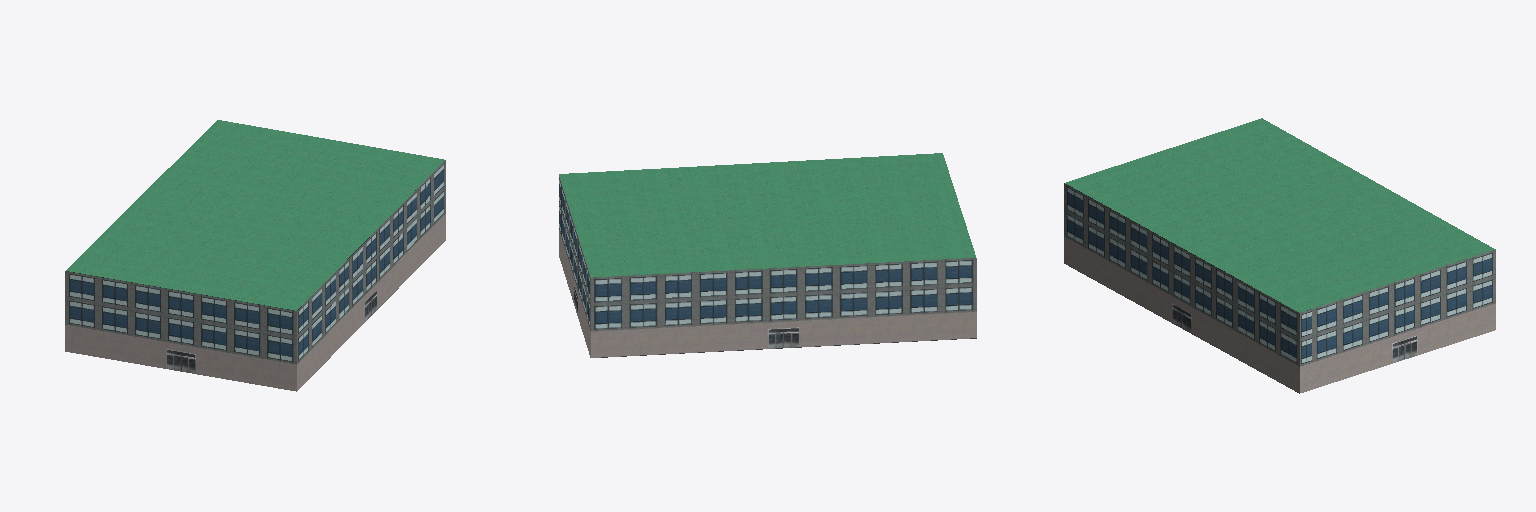
3 renders of one model, left to right at view 1: azimuth 30°, elevation 25°; view 2: azimuth 150°, elevation 25°; view 3: azimuth 270°, elevation 25°, orthographic.
Visible parts, largest first — view 1: BuildingMaster_[number redacted]_1, BuildingMaster_[number redacted]_0; view 2: BuildingMaster_[number redacted]_1, BuildingMaster_[number redacted]_0; view 3: BuildingMaster_[number redacted]_1, BuildingMaster_[number redacted]_0.
Boxes of the visible parts, x1=… form: BuildingMaster_[number redacted]_1: x1=66, y1=120, x2=444, y2=310; BuildingMaster_[number redacted]_0: x1=65, y1=160, x2=445, y2=391; BuildingMaster_[number redacted]_1: x1=559, y1=153, x2=975, y2=277; BuildingMaster_[number redacted]_0: x1=559, y1=177, x2=976, y2=357; BuildingMaster_[number redacted]_1: x1=1065, y1=118, x2=1495, y2=312; BuildingMaster_[number redacted]_0: x1=1064, y1=183, x2=1495, y2=393.
Bounding box in the file's own units: 54.3 × 10.5 × 50.83.
Materials: 2 (2 with a texture image).